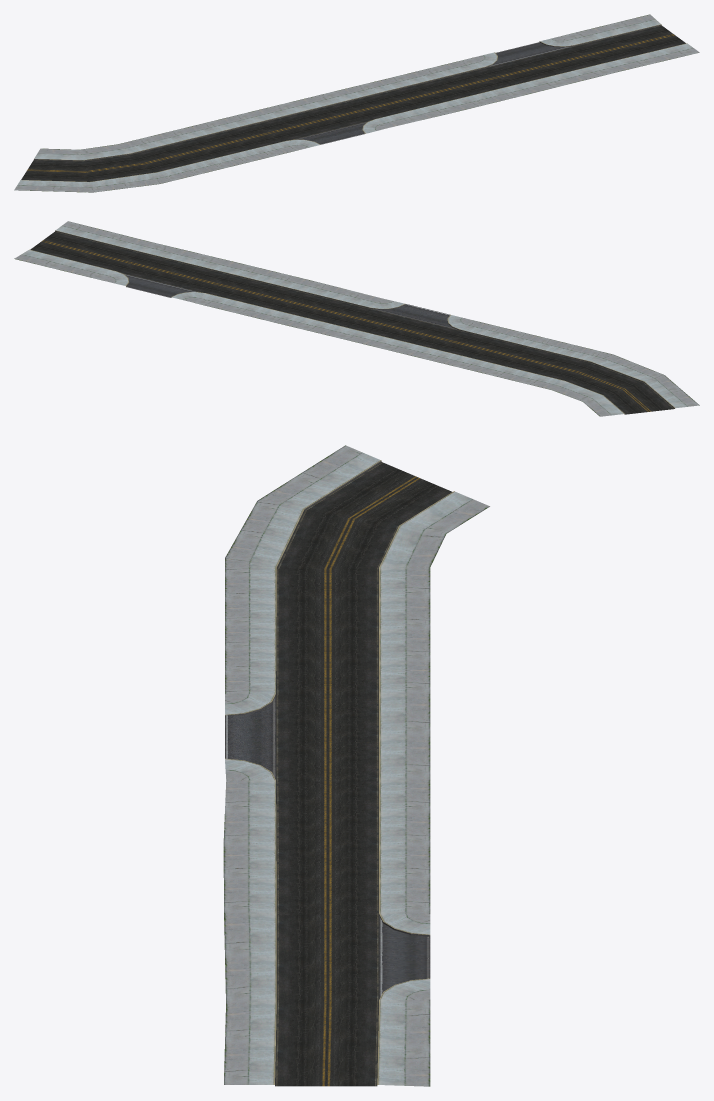
The model's file is roads02_lan.obj.
3 renders of one model, top to bottom at view 1: azimuth 30°, elevation 25°; view 2: azimuth 150°, elevation 25°; view 3: azimuth 270°, elevation 25°, orthographic. The views are drawn at different scales.
Parts seen in each view (by area): view 1: Roads02_LAn; view 2: Roads02_LAn; view 3: Roads02_LAn.
Boxes of the visible parts, left/top/right/bottom form: Roads02_LAn: left=14, top=14, right=699, bottom=192; Roads02_LAn: left=14, top=221, right=699, bottom=416; Roads02_LAn: left=223, top=445, right=489, bottom=1086.
Bounding box in the file's own units: 148 × 0.17 × 26.05.
